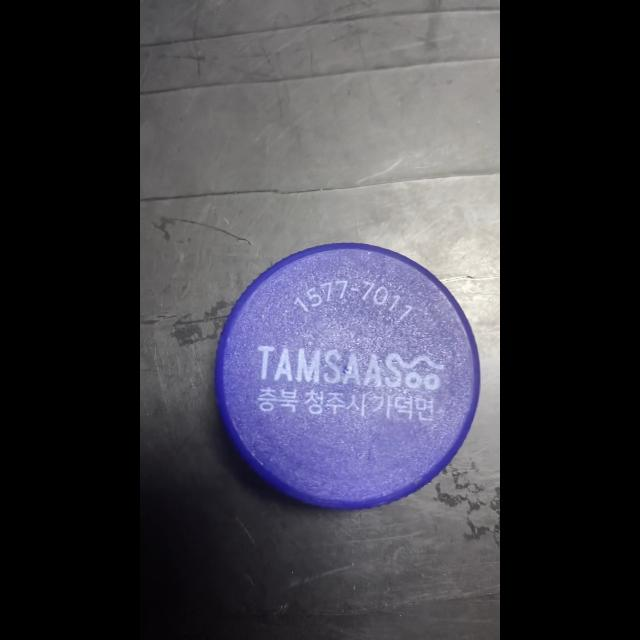plastic_bottle_cap: (207, 237, 487, 518)
